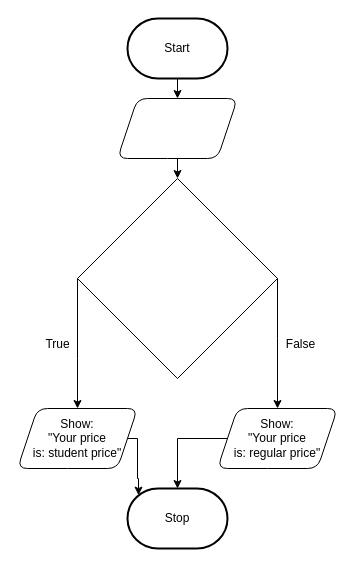
This 355x566 diagram has some shape labels left out. The shapes that lost their labels are listed below. From the top down, each one's centre as x and y in pixels, then its label:
At [177,128]: "User enters: dayOfWeek, age".
At [177,278]: "if (dayOfWeek == Tue OR dayOfweek == Thu) OR (age > 12 AND age < 21)".
